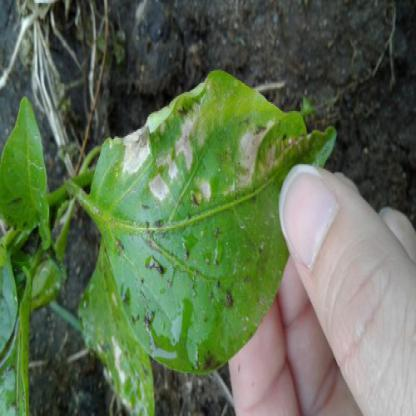bell pepper leaf: (91, 68, 341, 375)
